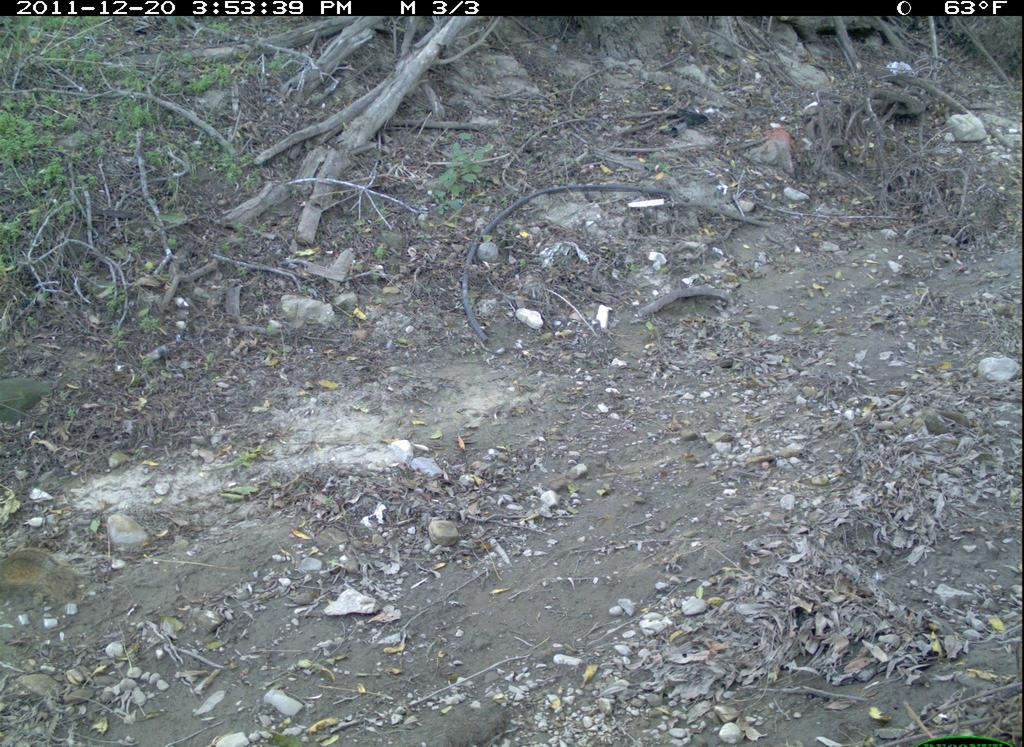squirrel: (3, 533, 84, 609)
